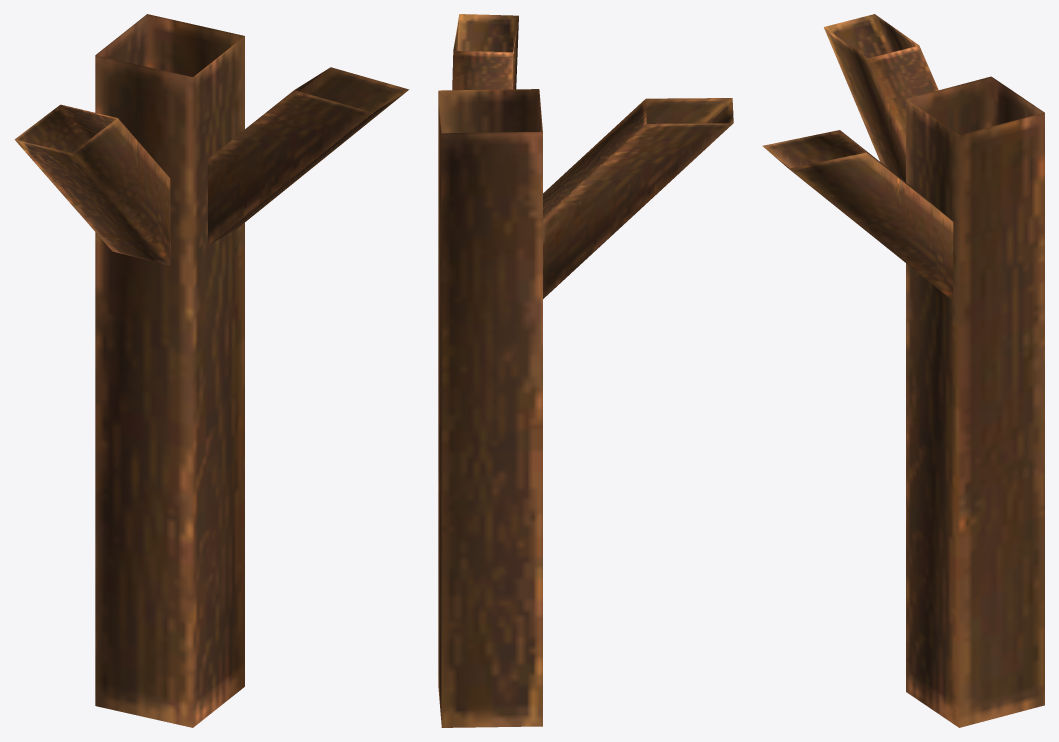
Rendered from SWORDLIGHT20_JAILPLATSUPPORT48.fbx.
3 renders of one model, left to right at view 1: azimuth 30°, elevation 25°; view 2: azimuth 150°, elevation 25°; view 3: azimuth 270°, elevation 25°, orthographic. The views are drawn at different scales.
Parts seen in each view (by area): view 1: SWORDLIGHT20_JAILPLATSUPPORT48; view 2: SWORDLIGHT20_JAILPLATSUPPORT48; view 3: SWORDLIGHT20_JAILPLATSUPPORT48.
Part boxes in pixels (x1=…): SWORDLIGHT20_JAILPLATSUPPORT48: x1=14, y1=14, x2=409, y2=727; SWORDLIGHT20_JAILPLATSUPPORT48: x1=438, y1=14, x2=733, y2=727; SWORDLIGHT20_JAILPLATSUPPORT48: x1=762, y1=14, x2=1044, y2=727.
Bounding box in the file's own units: 14504 × 25940 × 11211.
Materials: 1 (1 with a texture image).
